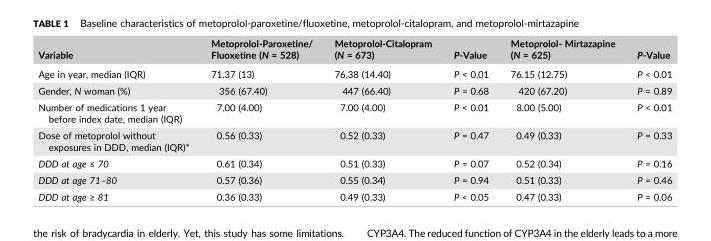table: (37, 37, 671, 201)
table column: (37, 37, 199, 201), (498, 37, 625, 201), (199, 37, 322, 201), (322, 37, 442, 201), (442, 37, 498, 201), (625, 37, 671, 201)
table column header: (37, 37, 671, 64)
table row: (37, 98, 671, 126), (37, 126, 671, 154), (37, 37, 671, 64), (37, 64, 671, 81), (37, 81, 671, 98), (37, 154, 671, 171), (37, 171, 671, 188), (37, 188, 671, 201)
